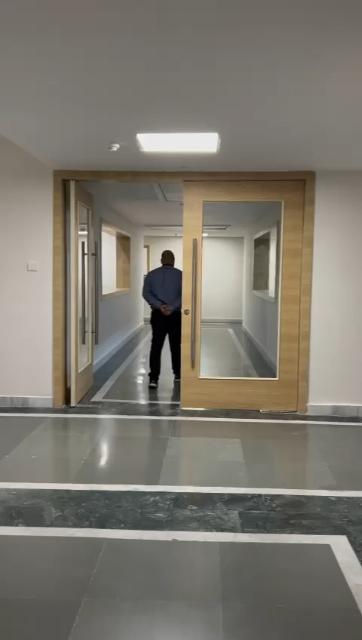door: (180, 183, 304, 405)
floor: (0, 412, 362, 640)
moving-obj: (116, 242, 206, 402)
wall: (0, 134, 52, 393), (314, 184, 362, 412)
